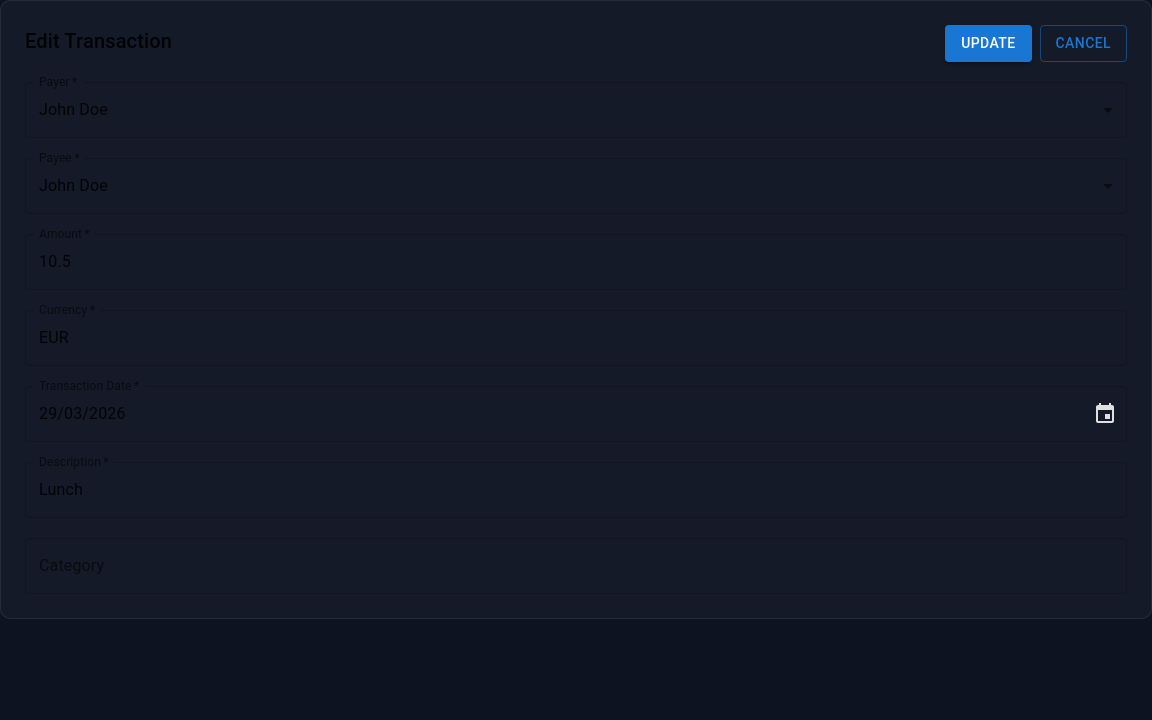
Test: shows validation error when payer and payee are equal
Click the button "Update" at (988, 43), box [945,25,1032,62]
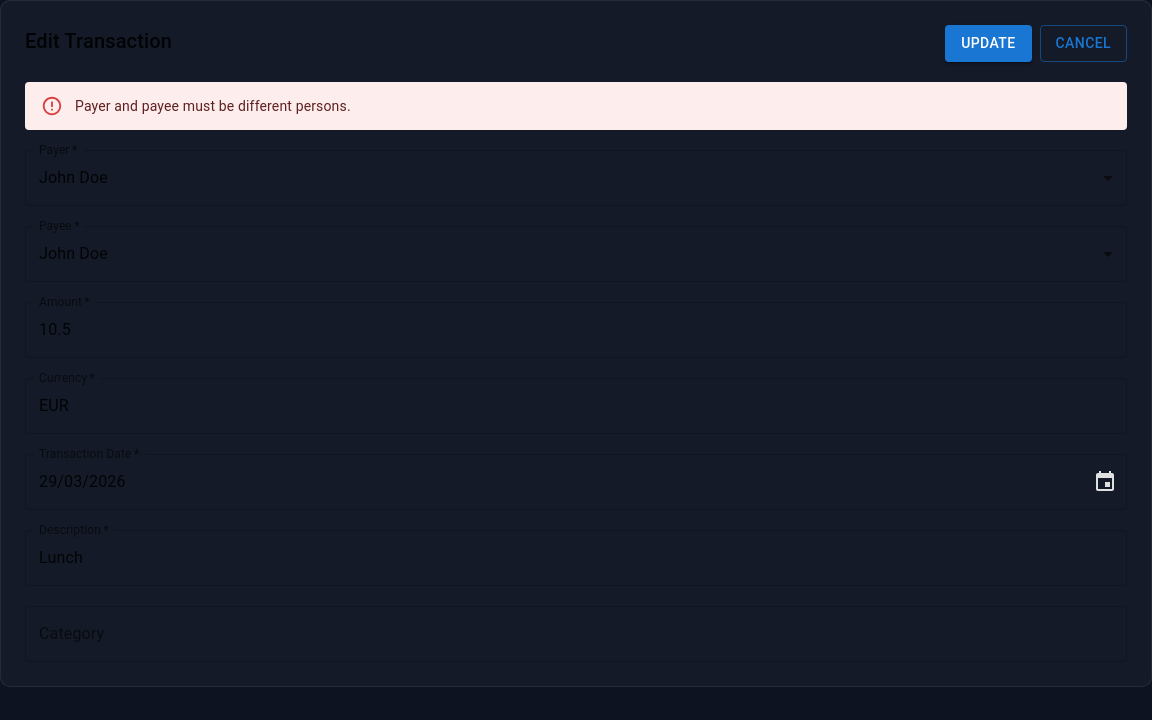
Result: the text "Payer and payee must be different persons." is shown at [75,98,351,114]
